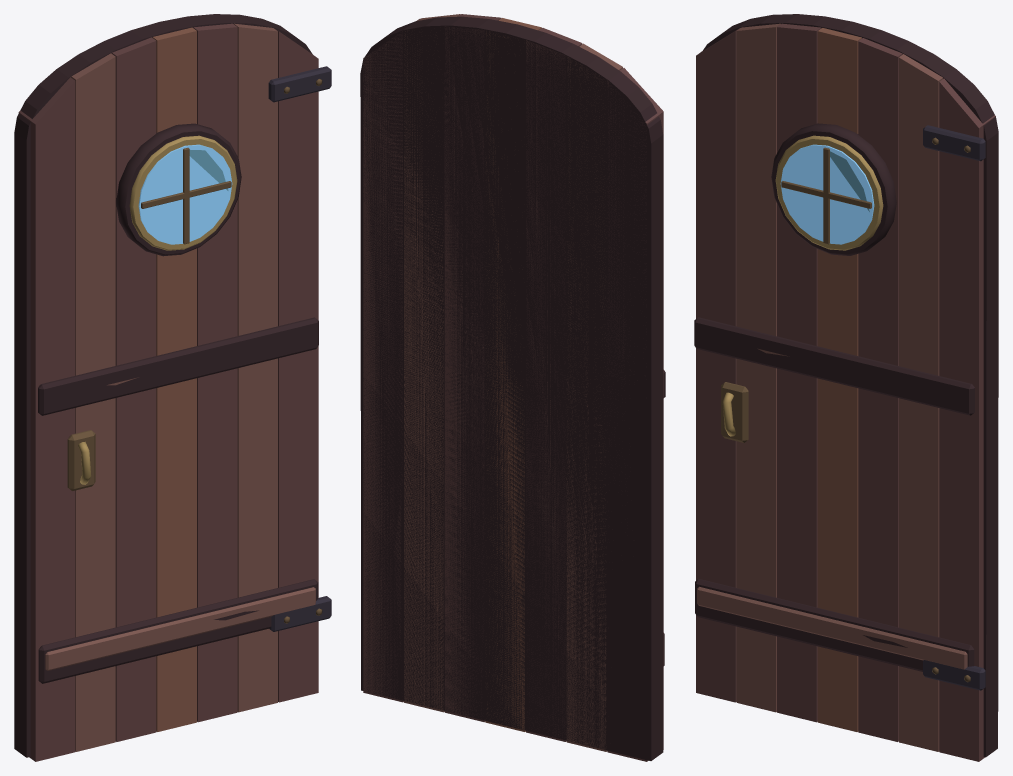
Rendered from door_leaf.glb.
3 views of the same model, side by side, from view 1: azimuth 30°, elevation 25°; view 2: azimuth 150°, elevation 25°; view 3: azimuth 330°, elevation 25° (orthographic).
Visible parts, largest first — view 1: door_leaf; view 2: door_leaf; view 3: door_leaf.
Boxes of the visible parts, x1,y1,x2,y2 form: door_leaf: (14,14,331,761); door_leaf: (360,14,665,761); door_leaf: (694,14,998,761).
Bounding box in the file's own units: 0.904 × 2.02 × 0.1498.
